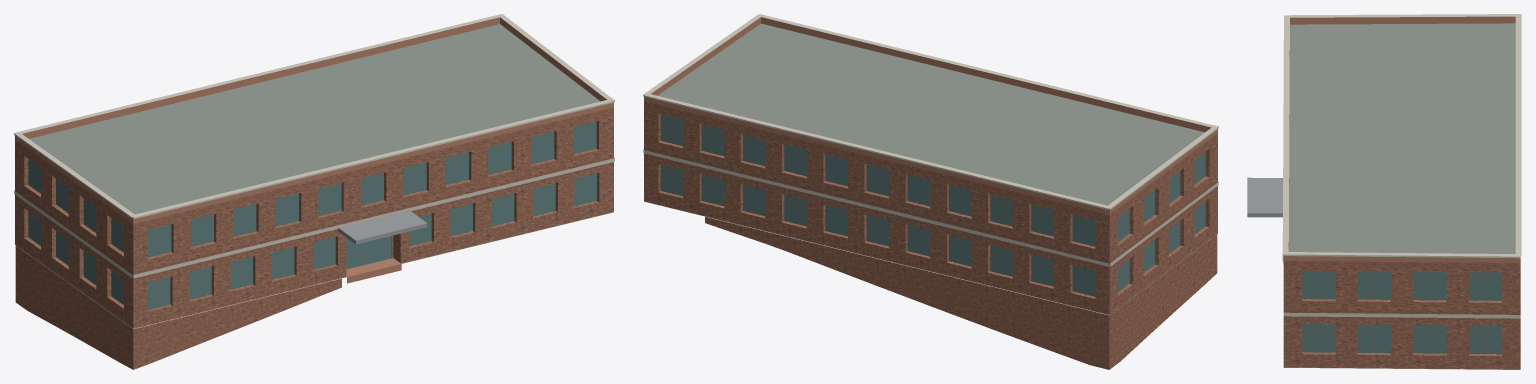
3 views of the same model, side by side, from view 1: azimuth 30°, elevation 25°; view 2: azimuth 150°, elevation 25°; view 3: azimuth 270°, elevation 25° (orthographic). The views are drawn at different scales.
Parts seen in each view (by area): view 1: lifelong__roof, lifelong__wall, lifelong__glass, lifelong__foundationSkirt, lifelong__trim, lifelong__parapet, lifelong__frame, lifelong__canopy, lifelong__entranceThreshold_0; view 2: lifelong__roof, lifelong__wall, lifelong__foundationSkirt, lifelong__glass, lifelong__trim, lifelong__parapet, lifelong__frame; view 3: lifelong__roof, lifelong__wall, lifelong__glass, lifelong__trim, lifelong__parapet, lifelong__canopy, lifelong__frame.
Boxes of the visible parts, x1,y1,x2,y2 form: lifelong__roof: (15,24,613,328); lifelong__wall: (15,107,613,328); lifelong__glass: (28,121,596,309); lifelong__foundationSkirt: (15,246,341,369); lifelong__trim: (14,14,614,278); lifelong__parapet: (15,17,613,223); lifelong__frame: (27,124,597,307); lifelong__canopy: (337,210,427,244); lifelong__entranceThreshold_0: (346,258,401,283); lifelong__roof: (644,23,1216,315); lifelong__wall: (644,101,1217,314); lifelong__foundationSkirt: (705,217,1217,369); lifelong__glass: (660,114,1205,296); lifelong__trim: (643,14,1218,266); lifelong__parapet: (644,17,1217,214); lifelong__frame: (660,117,1205,294); lifelong__roof: (1284,23,1520,369); lifelong__wall: (1283,261,1520,369); lifelong__glass: (1302,270,1501,354); lifelong__trim: (1282,14,1521,318); lifelong__parapet: (1283,16,1520,262); lifelong__canopy: (1247,177,1282,217); lifelong__frame: (1302,271,1501,354).
Size of the model in its own units: 34.18 by 11.31 by 16.33.
10 materials, 2 textured.
